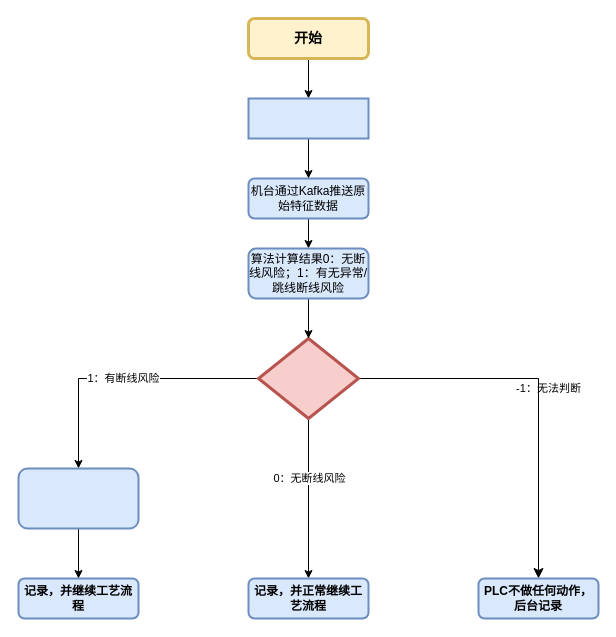
The diagram is 616 pixels wide and 637 high, and some of its shapes have lost their labels. The centre of each missing label's shape, as x and y in pixels:
"前端提示，增加人工点检或工艺参数修改" goes at point (78, 498).
"断线算法结果为?" goes at point (308, 378).
"检测到进刀位置为50" goes at point (308, 118).
